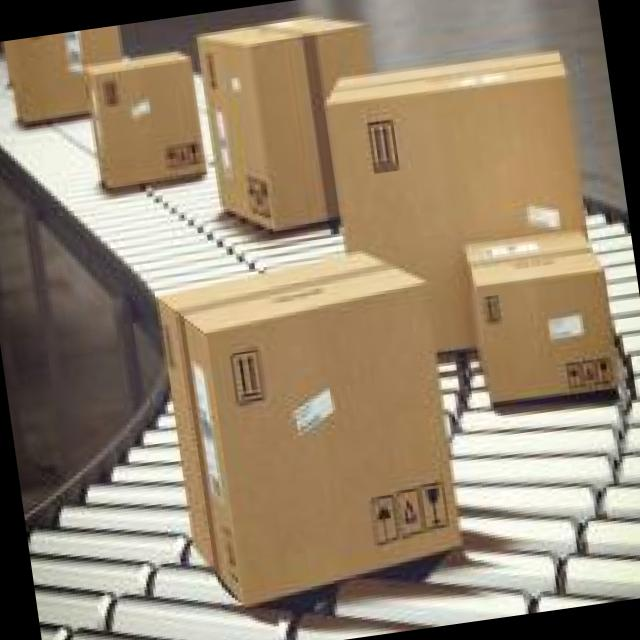box: (158, 247, 467, 608), (322, 51, 594, 355), (193, 13, 383, 234), (466, 229, 621, 405), (82, 49, 208, 193), (1, 18, 125, 128)
